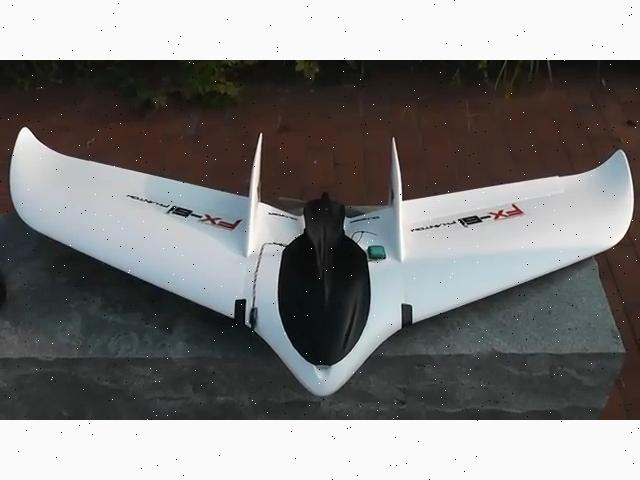Anti-Drone: (2, 118, 640, 400)
